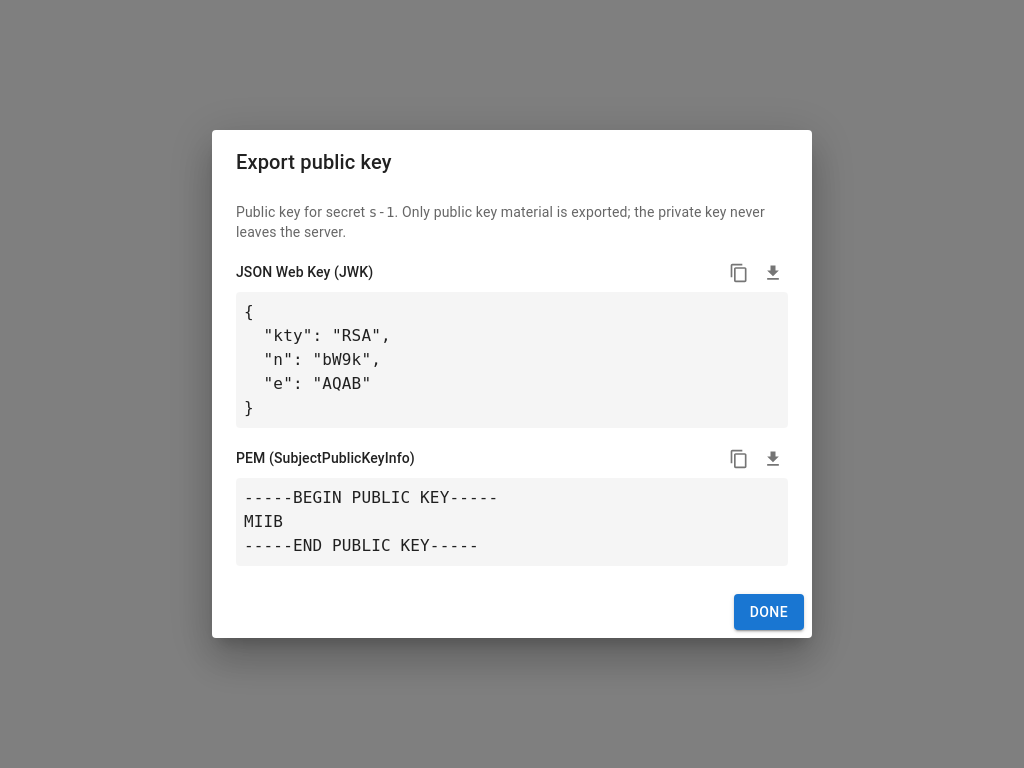
ExportPublicKeyDialog › copies the jwk and confirms it in the copy tooltip
Hover over the button named "Copy JSON Web Key (JWK)" at (739, 273), box [724, 258, 754, 288]
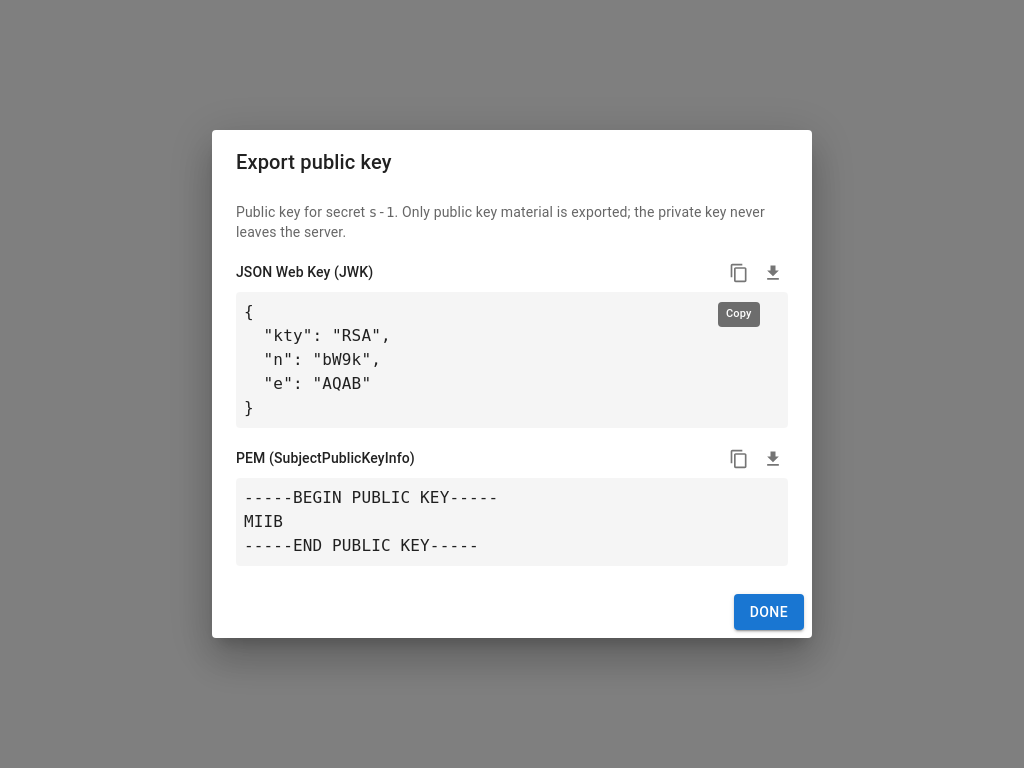
Expected: the tooltip "Copy" is shown, [716, 288, 762, 328]
Click the button named "Copy JSON Web Key (JWK)" at (739, 273), box [724, 258, 754, 288]
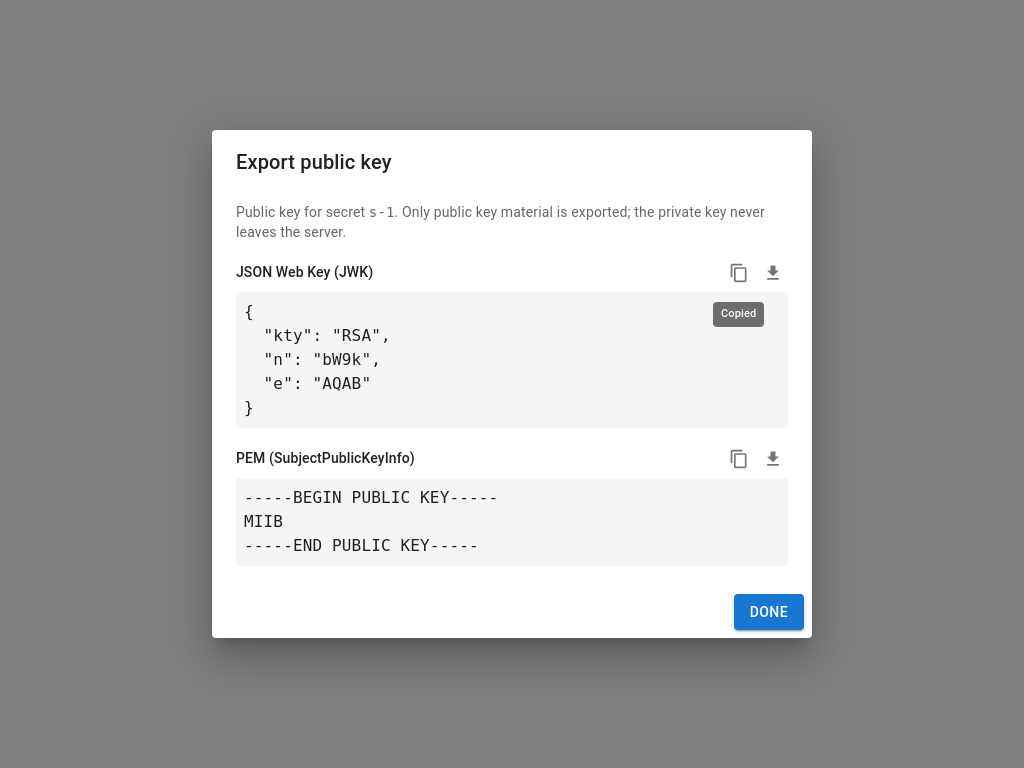
Expected: the tooltip "Copied" is shown, [711, 288, 766, 328]
